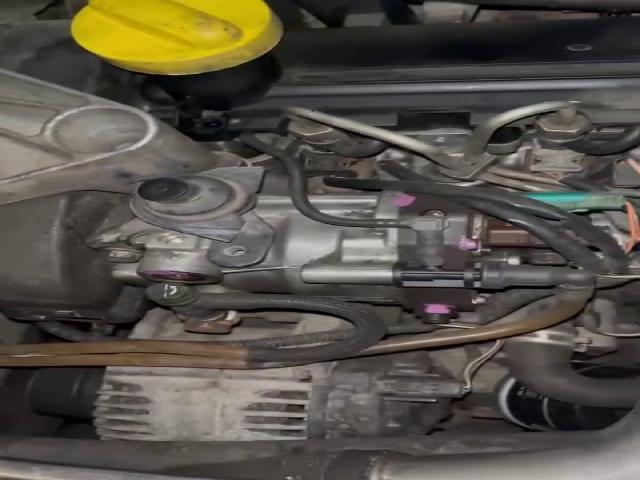alternator: (93, 362, 333, 441)
high_pressure_pump: (91, 190, 596, 323)
